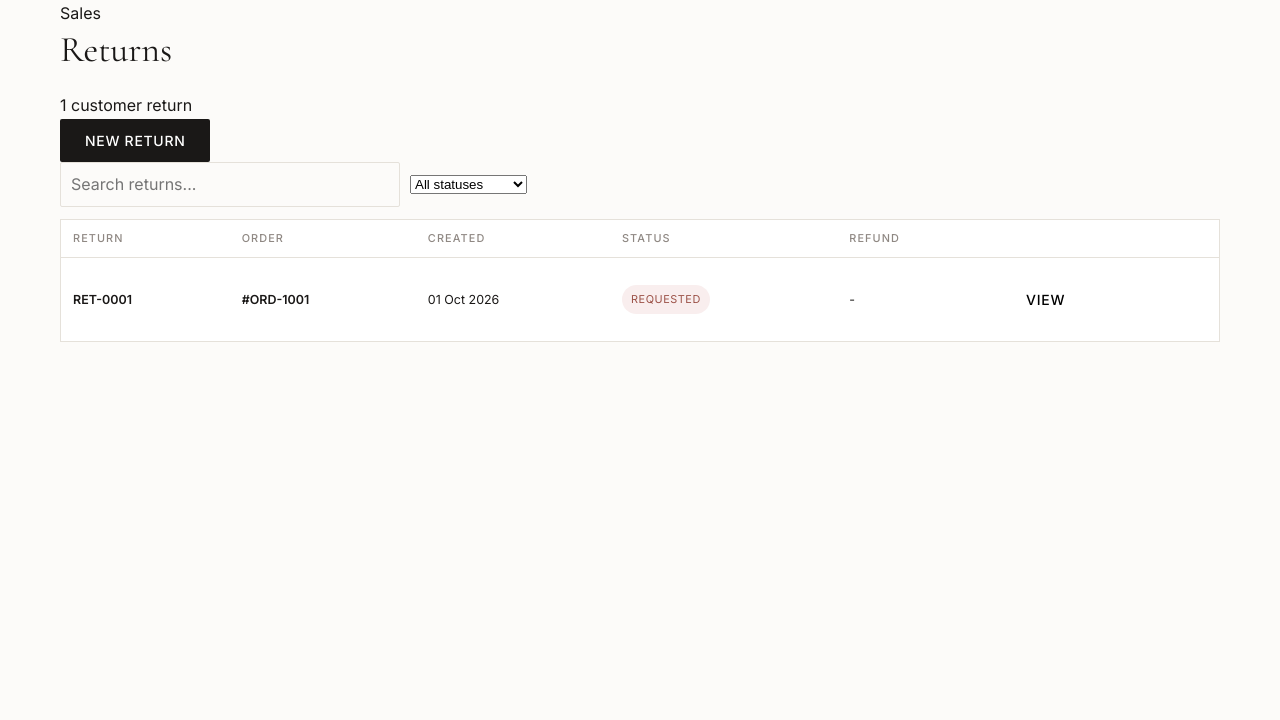
it: Returns admin page › requires a note before rejecting a return
Check: the text "RET-0001" is shown, box 73,292 -> 132,307
Click the button "View" at (1046, 300), box 1001,278 -> 1090,321
(page scrolled)
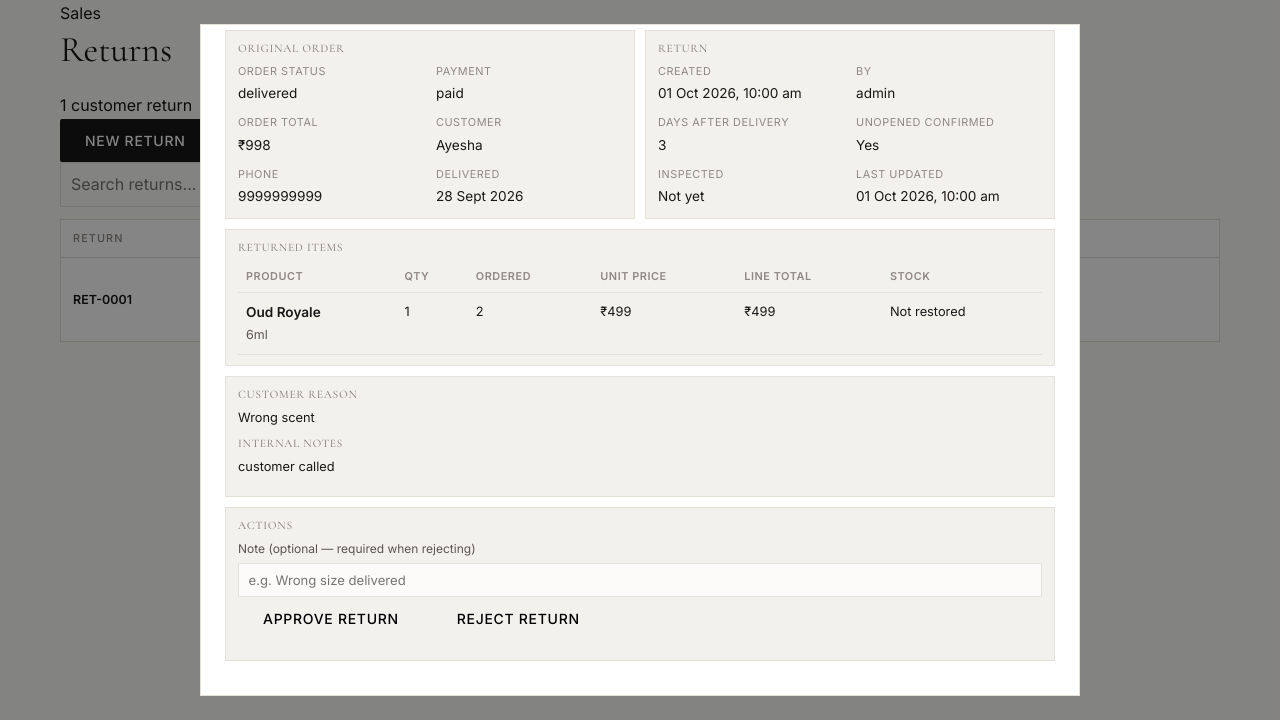
Check: the dialog is shown
Click the button "Reject return" at (518, 618), box 432,597 -> 605,640
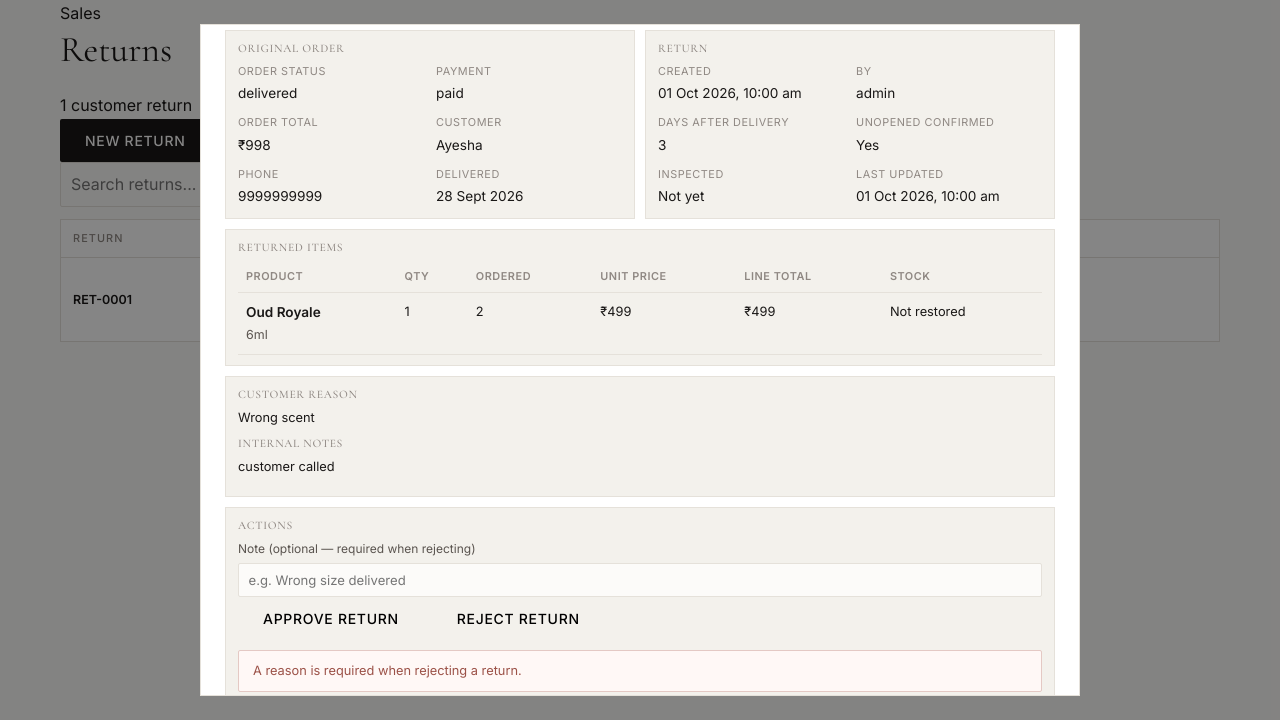
Check: the text "A reason is required when rejecting a return." is shown, box 238,650 -> 1042,692
